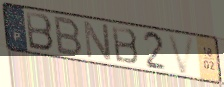2: (142, 30, 167, 74)
B: (24, 9, 56, 53), (110, 24, 141, 67), (53, 15, 84, 58)
N: (82, 19, 114, 63)
V: (166, 33, 197, 76)
